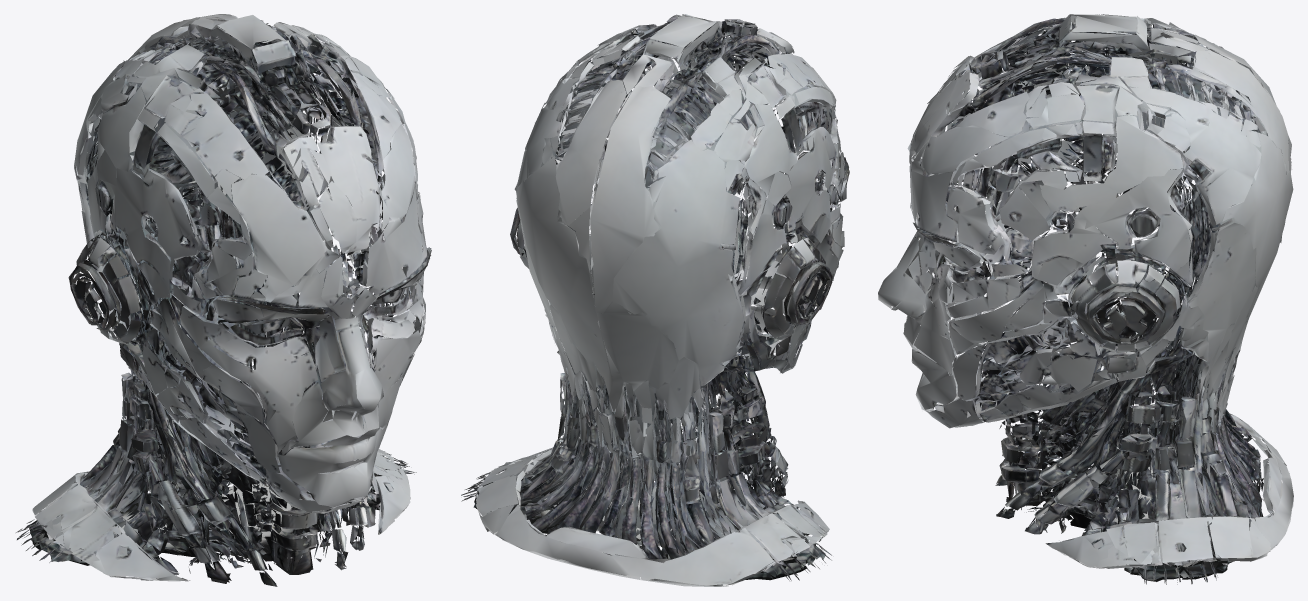
The model's file is head_final.glb.
3 renders of one model, left to right at view 1: azimuth 30°, elevation 25°; view 2: azimuth 150°, elevation 25°; view 3: azimuth 270°, elevation 25°, orthographic. The views are drawn at different scales.
Visible parts, largest first — view 1: model; view 2: model; view 3: model.
Part boxes in pixels (bbox=[...]): model: bbox=[16, 14, 431, 586]; model: bbox=[461, 14, 849, 586]; model: bbox=[878, 14, 1293, 584].
Size of the model in its own units: 1.47 by 1.91 by 1.49.
Materials: 1 (1 with a texture image).
